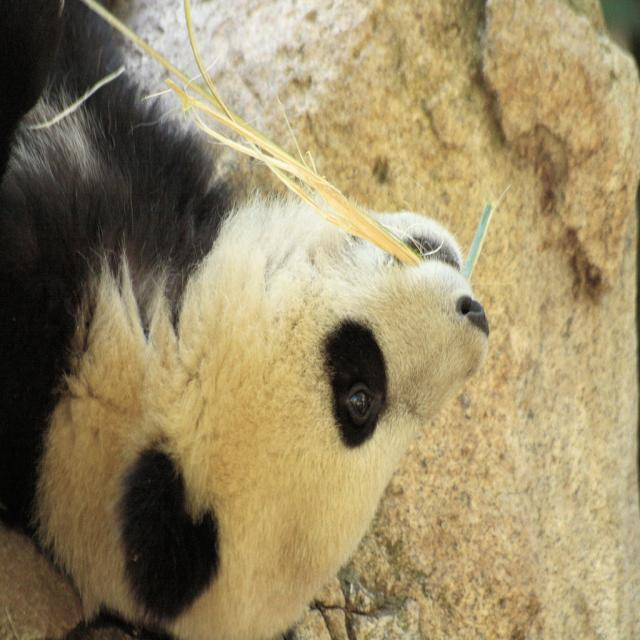panda: (1, 22, 509, 616)
